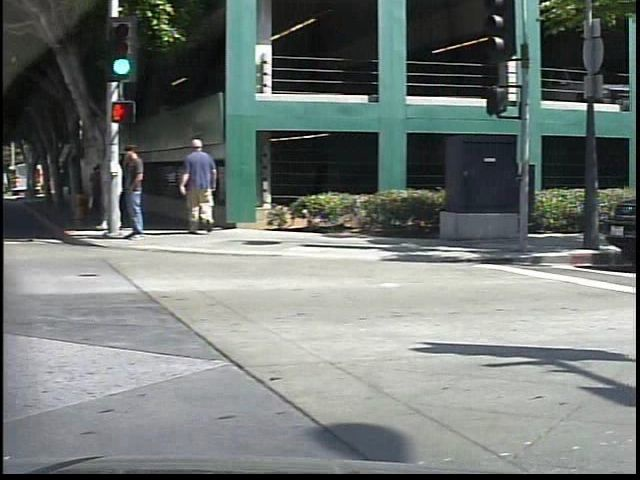person: (183, 135, 236, 236), (123, 140, 162, 246), (107, 145, 132, 232)
